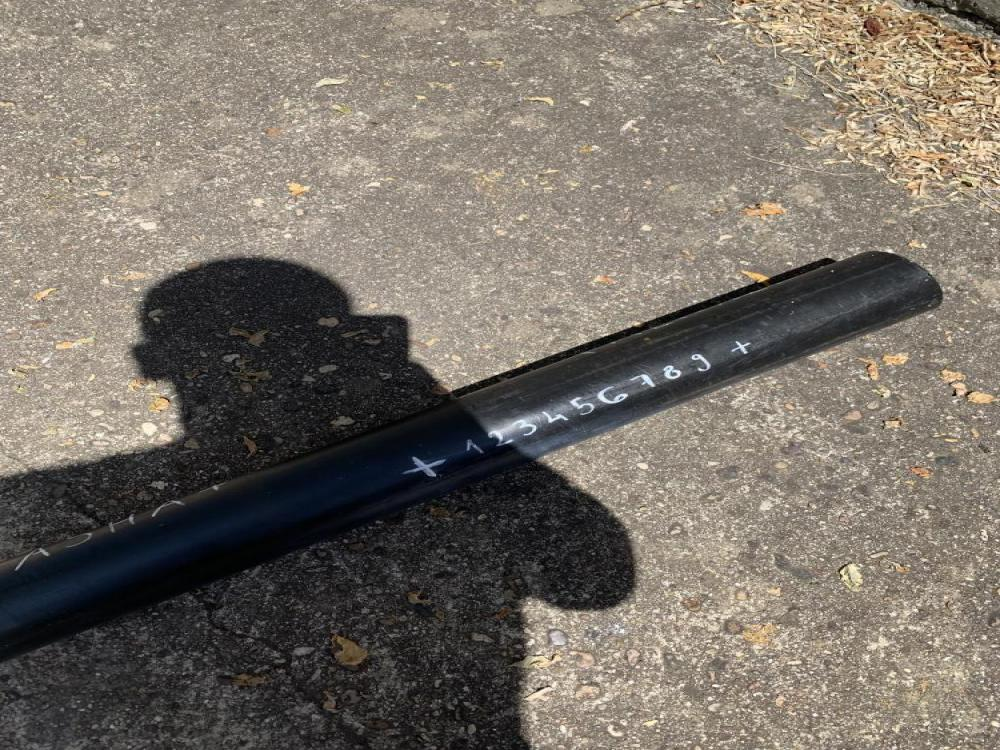+: (403, 456, 446, 478), (732, 340, 751, 354)
1: (466, 437, 485, 455), (586, 386, 606, 400)
2: (487, 429, 516, 447)
3: (511, 419, 540, 437)
4: (541, 410, 571, 424)
5: (570, 397, 595, 416)
6: (597, 386, 629, 405)
7: (631, 374, 657, 391)
8: (660, 365, 682, 380)
9: (690, 354, 713, 372)
